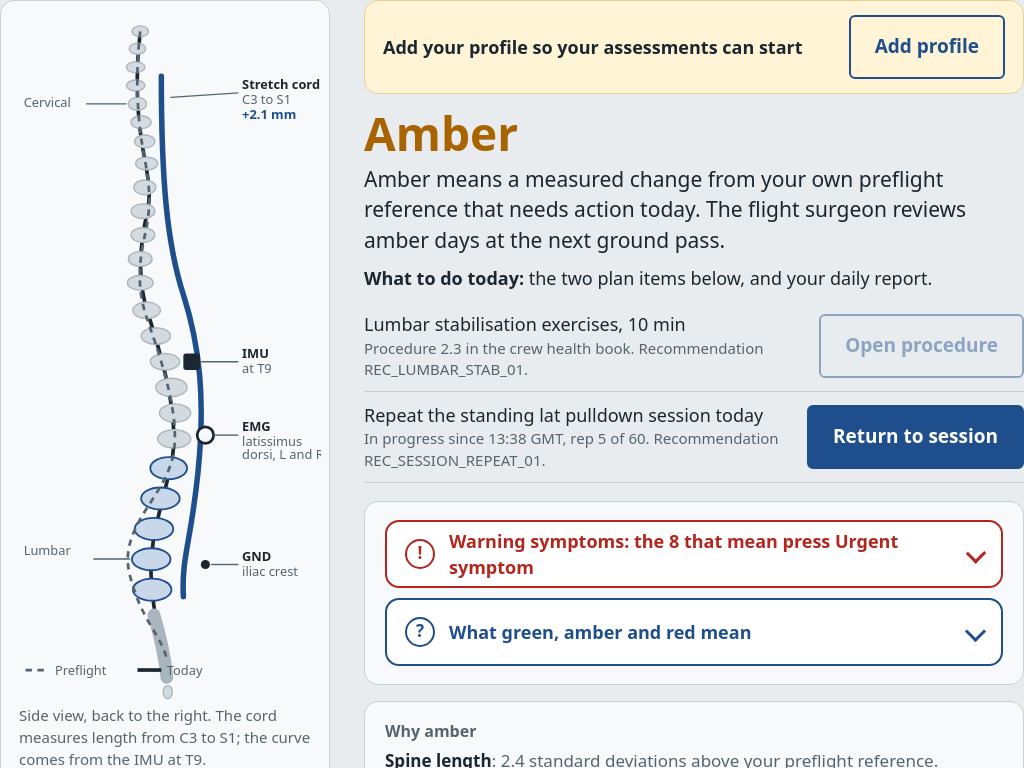
Scenario: composes the session-in-progress line from the live rep count and the return button navigates
The width and height of the screenshot is (1024, 768).
Later steps or results of the test are not shown.
Expected: the list item "Repeat the standing lat pulldown session today" is shown, [364,403,763,427]
Expected: the list item "Repeat the standing lat pulldown session today" shows "rep 5 of 60", [364,428,779,470]
Click the button "Return to session".
click(915, 437)  # box [807,405,1023,469]
(page scrolled)
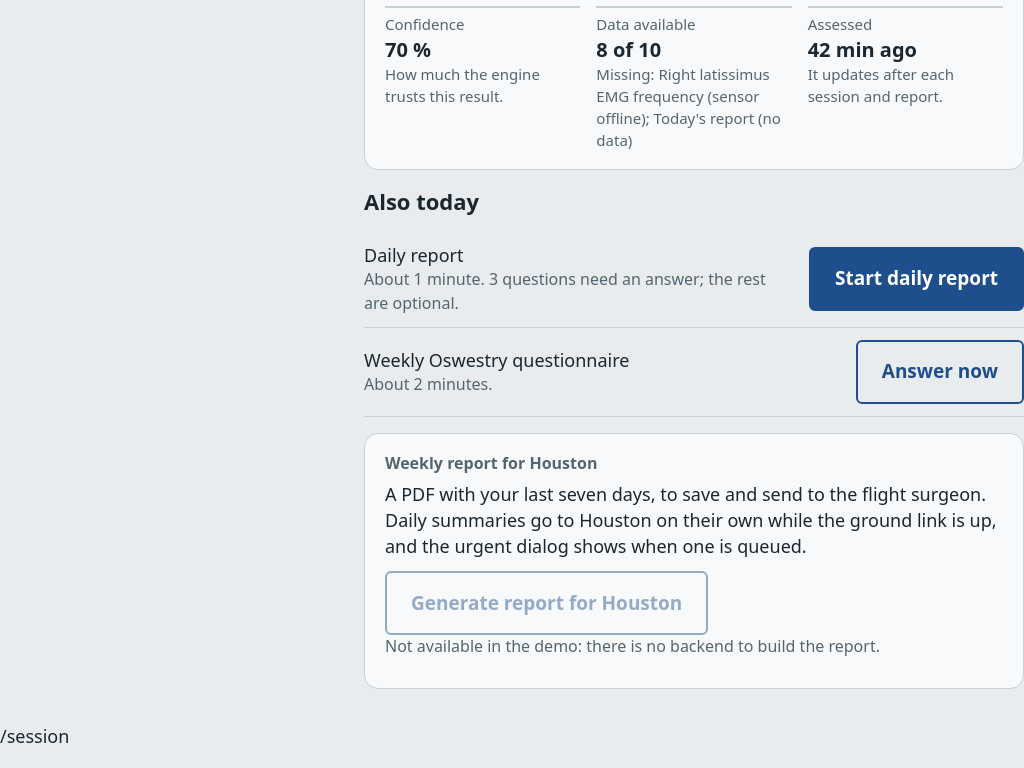
Expected: the text with test id "where" reads "/session", [0,724,69,748]
